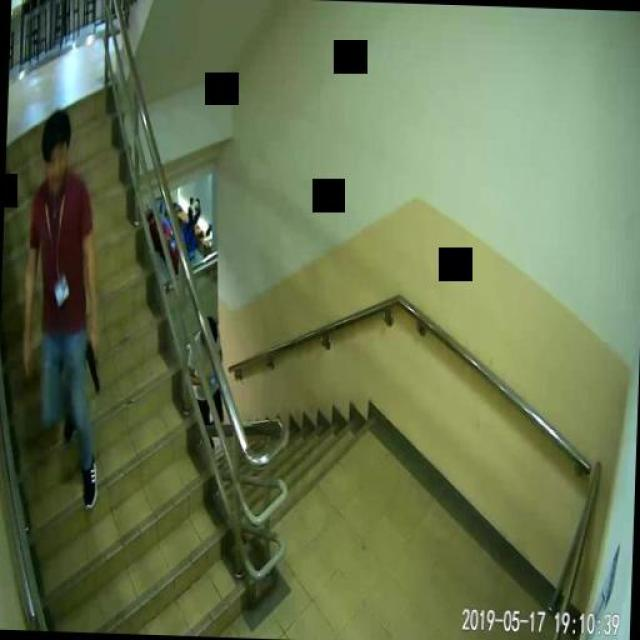gun: (82, 334, 100, 391)
